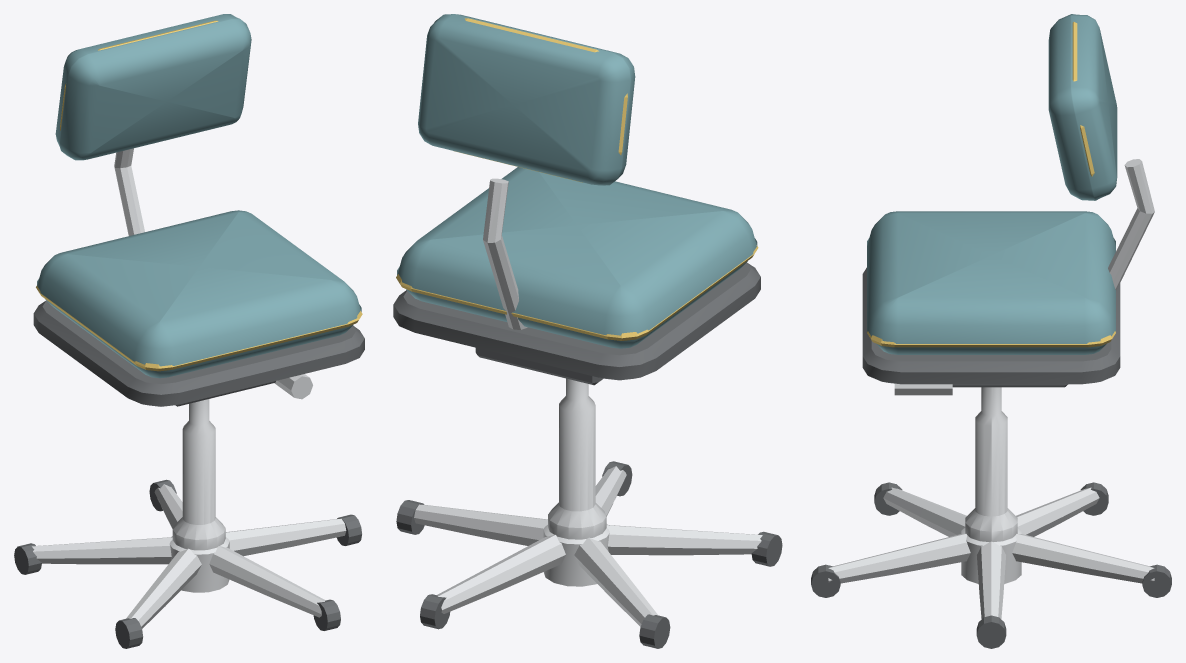
Rendered from clinic-and-veterinary-practice-clinician-stool-ad7b8e5a__16738.glb.
The picture shows the model from 3 angles, left to right: view 1: azimuth 30°, elevation 25°; view 2: azimuth 150°, elevation 25°; view 3: azimuth 270°, elevation 25°; orthographic projection. The views are drawn at different scales.
Visible parts, largest first — view 1: clinician-stool; view 2: clinician-stool; view 3: clinician-stool.
Part boxes in pixels (x1=…): clinician-stool: x1=14, y1=14, x2=364, y2=648; clinician-stool: x1=393, y1=14, x2=782, y2=648; clinician-stool: x1=811, y1=14, x2=1171, y2=648.
Bounding box in the file's own units: 0.5124 × 0.8922 × 0.5598.
